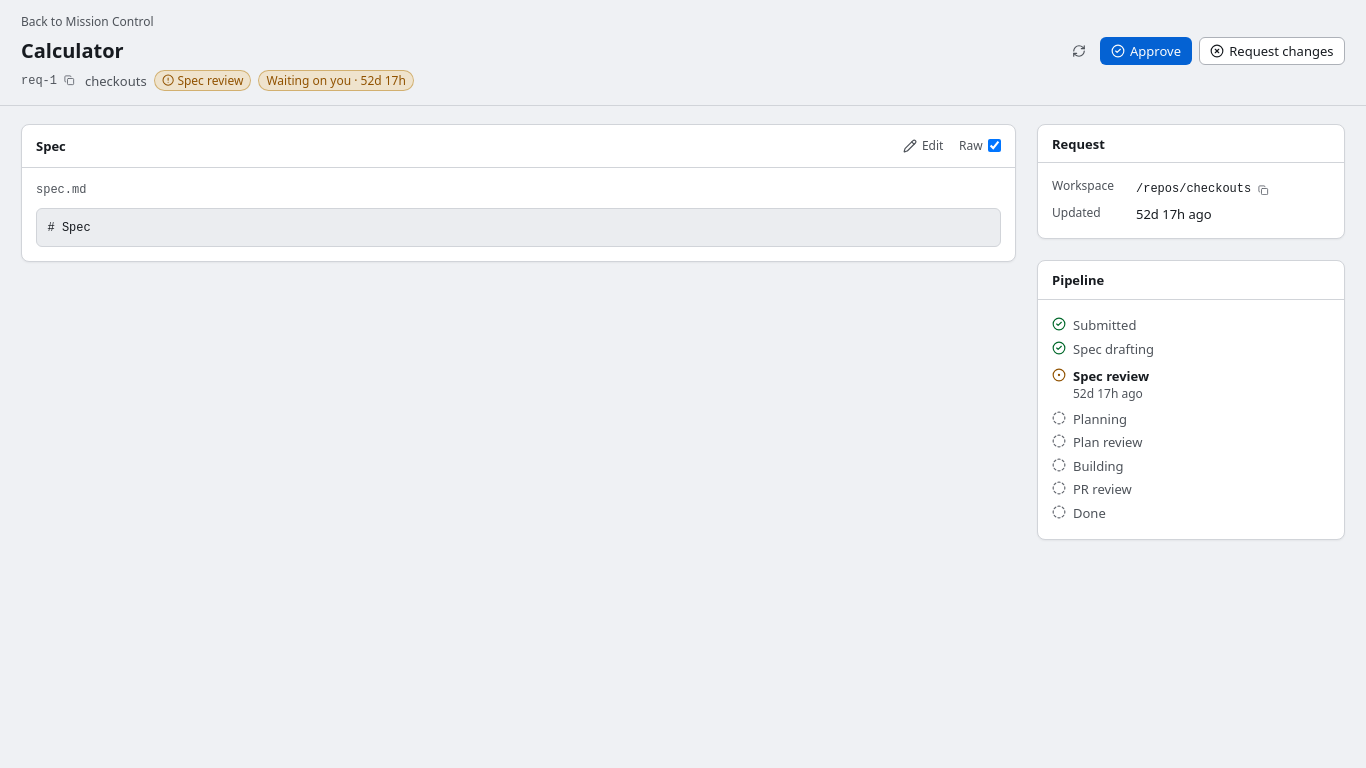
it: a spec's criteria as a list › without the heading the list says how to get one, and the text is still editable
Expected: the heading "Calculator" is shown, [21, 37, 124, 64]
Expected: the button "Approve" is enabled, [1100, 37, 1192, 65]
Click the button "Edit": (923, 146) [894, 134, 952, 158]
(page scrolled)
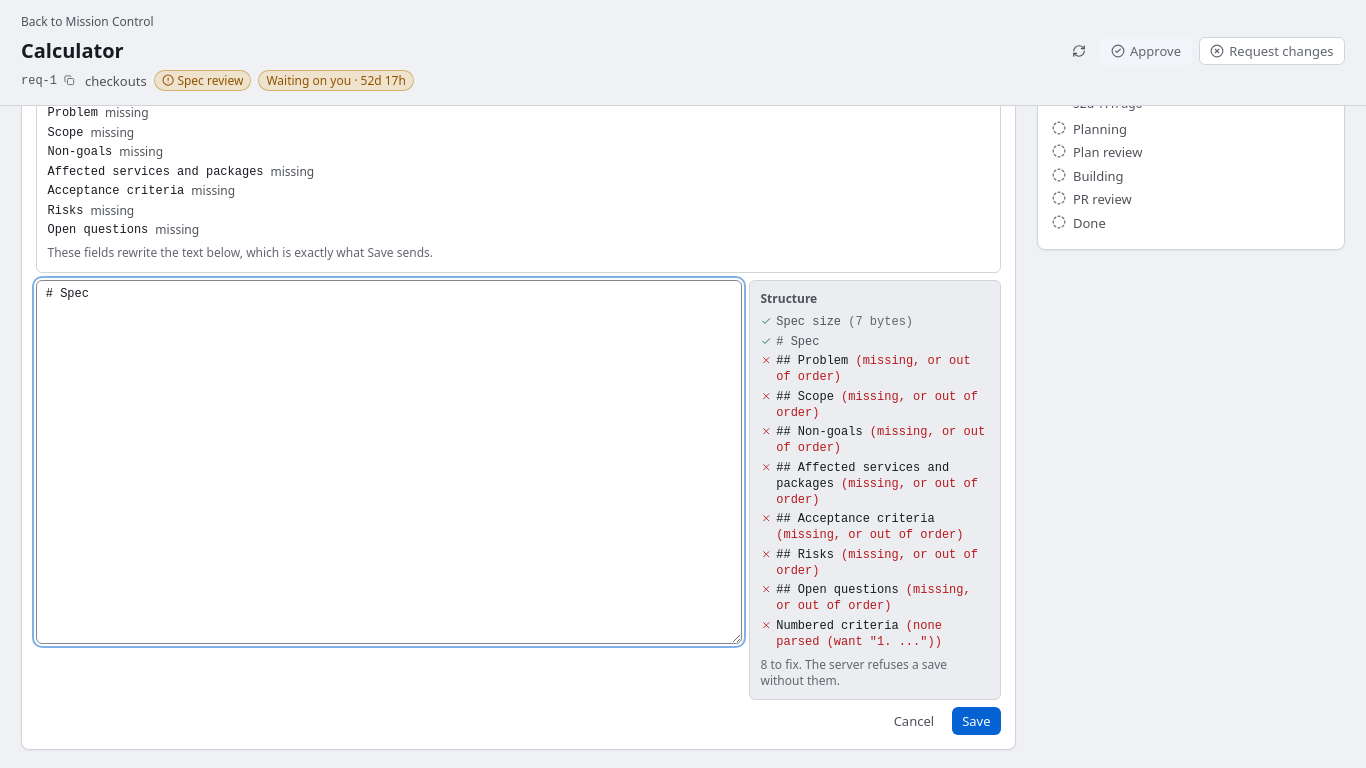
Expected: the text "Add a \"## Acceptance criteria\" heading to edit the criteria as a list." is shown, [48, 34, 420, 51]
Expected: the text box named "Edit spec.md" holds "# Spec ", [36, 280, 742, 644]
